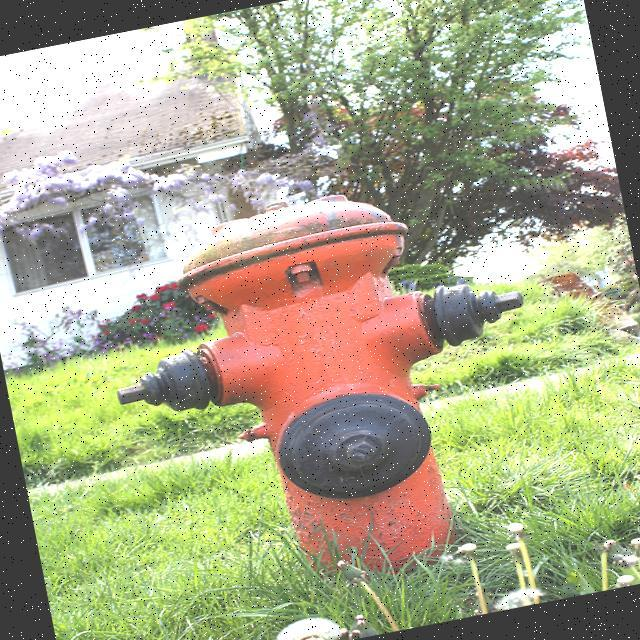fire_hydrant: (87, 160, 569, 611)
